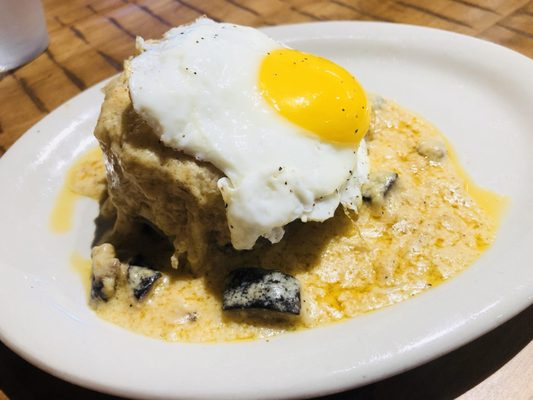pizza: (0, 0, 49, 81)
